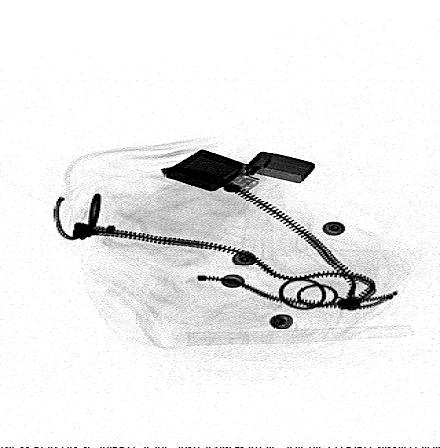Lighter: (165, 148, 317, 194)
